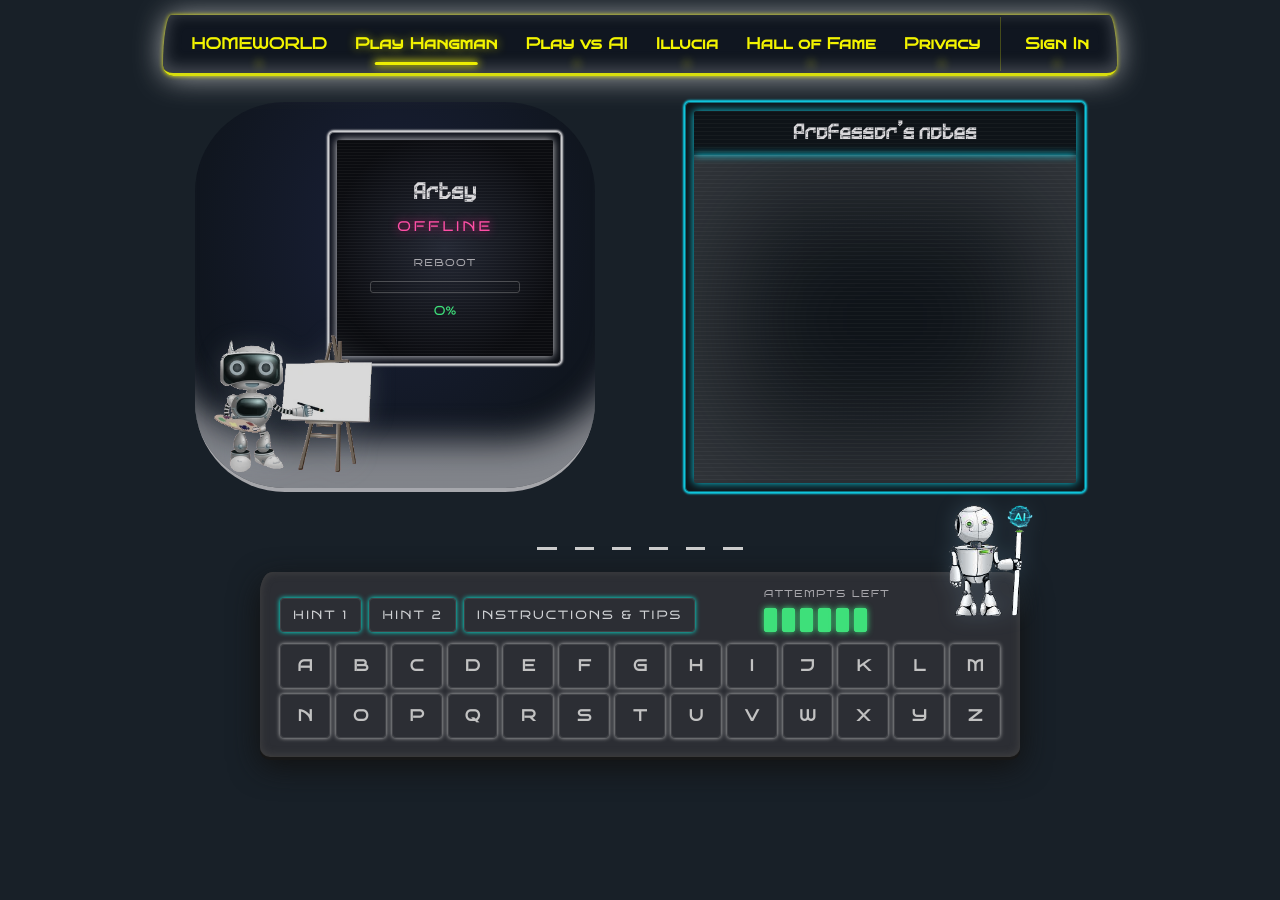
Test case: /hangman game rules › reveals every occurrence of a hit and marks the key as used
The image size is (1280, 900).
Expected: the button "a" is enabled, [280,644,330,688]
Step 1. Click the button "z" → (975, 716), box [950,694,1000,738]
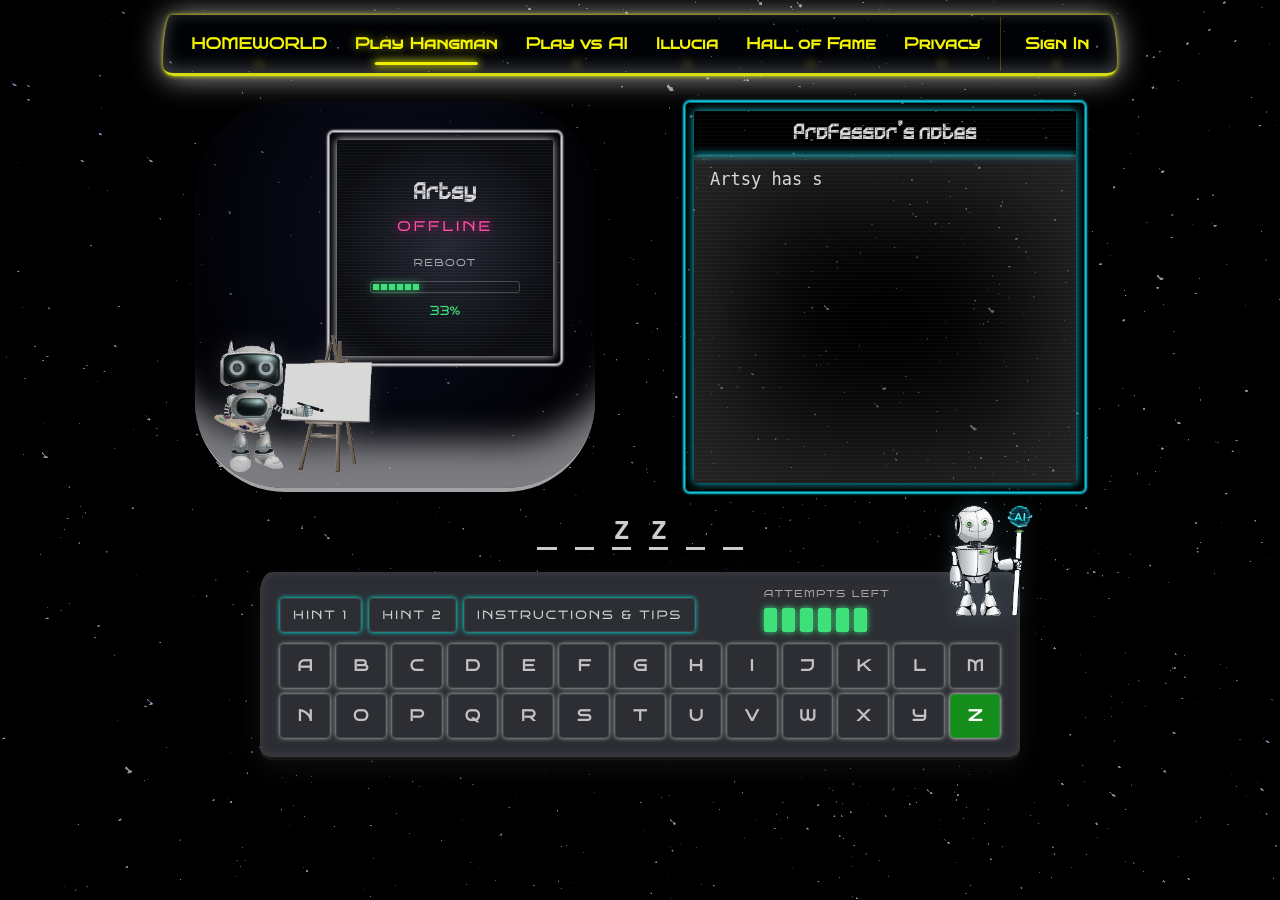
Expected: the button "p" is enabled, [392,694,442,738]
Result: the button "z" is disabled at [950,694,1000,738]
